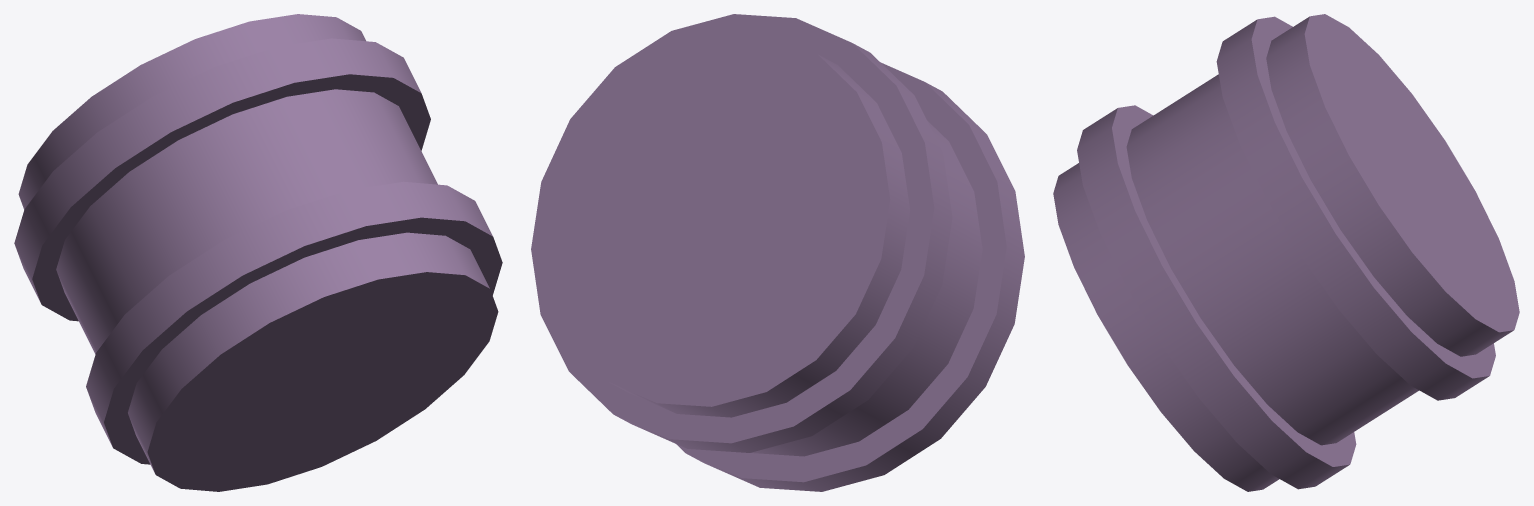
The model's file is plasma_lobber_chamber.glb.
The picture shows the model from 3 angles, left to right: view 1: azimuth 30°, elevation 25°; view 2: azimuth 150°, elevation 25°; view 3: azimuth 270°, elevation 25°; orthographic projection. The views are drawn at different scales.
Parts seen in each view (by area): view 1: plasma_lobber_chamber; view 2: plasma_lobber_chamber; view 3: plasma_lobber_chamber.
Part boxes in pixels (bbox=[...]): plasma_lobber_chamber: bbox=[14, 14, 502, 491]; plasma_lobber_chamber: bbox=[531, 14, 1024, 491]; plasma_lobber_chamber: bbox=[1053, 14, 1519, 491].
Bounding box in the file's own units: 0.5 × 0.5669 × 0.5473.
